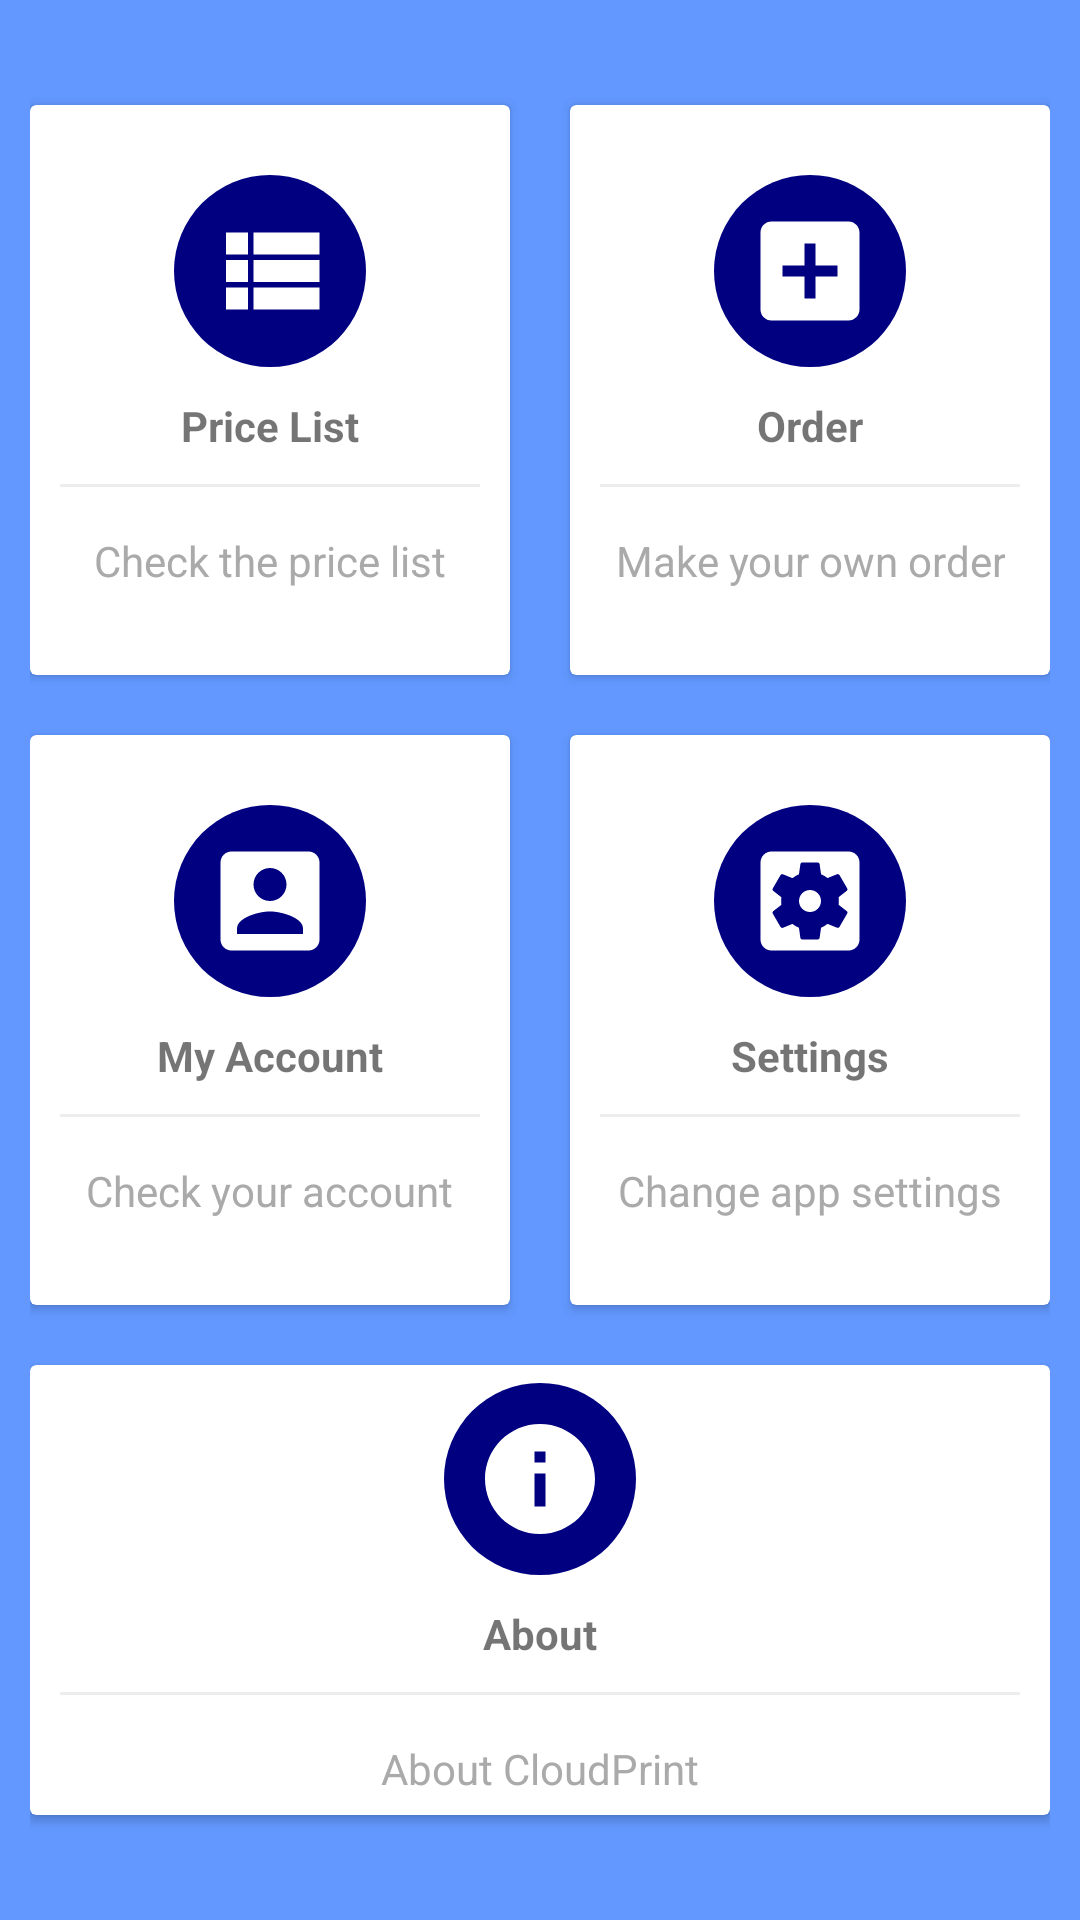

Named icons in this screenshot (1080 x 1920) and their centers, (x,y):
add box: (810,271)
info: (540,1479)
view list: (270,271)
